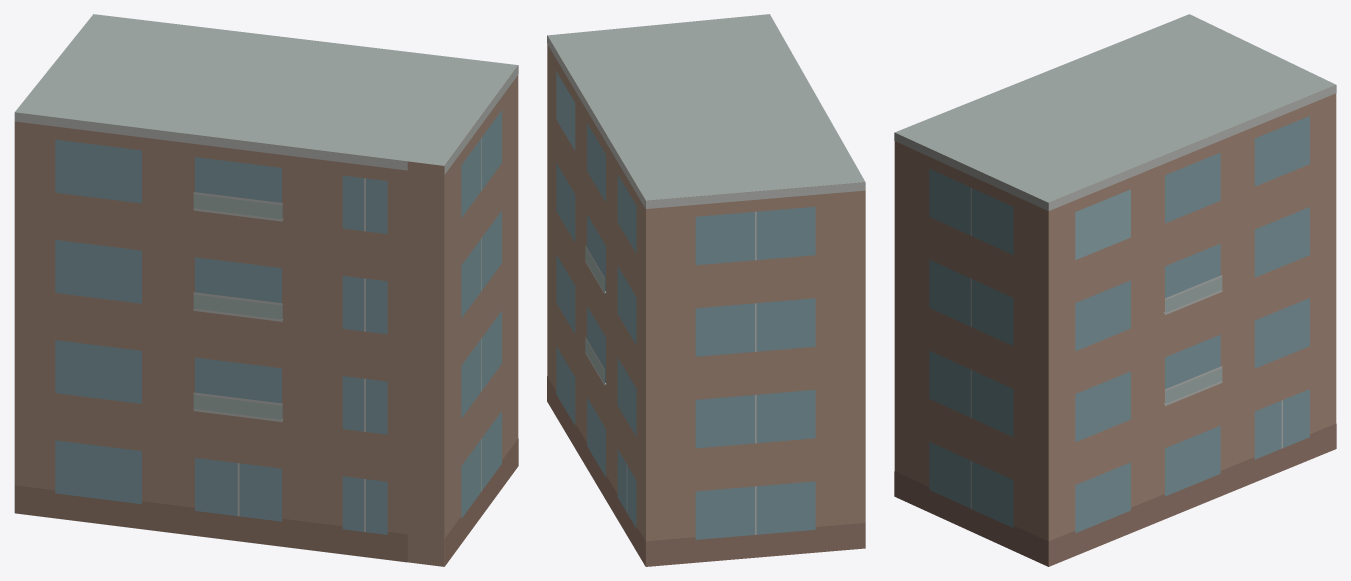
Rendered from survey-upis-32922795.glb.
3 views of the same model, side by side, from view 1: azimuth 30°, elevation 25°; view 2: azimuth 150°, elevation 25°; view 3: azimuth 270°, elevation 25° (orthographic). The views are drawn at different scales.
Parts seen in each view (by area): view 1: survey-upis-32922795.tmp; view 2: survey-upis-32922795.tmp; view 3: survey-upis-32922795.tmp.
Boxes of the visible parts, <box> form: survey-upis-32922795.tmp: <box>14,14,518,566</box>; survey-upis-32922795.tmp: <box>547,14,865,566</box>; survey-upis-32922795.tmp: <box>894,14,1336,566</box>.
Size of the model in its own units: 11.8 by 10.6 by 11.67.
